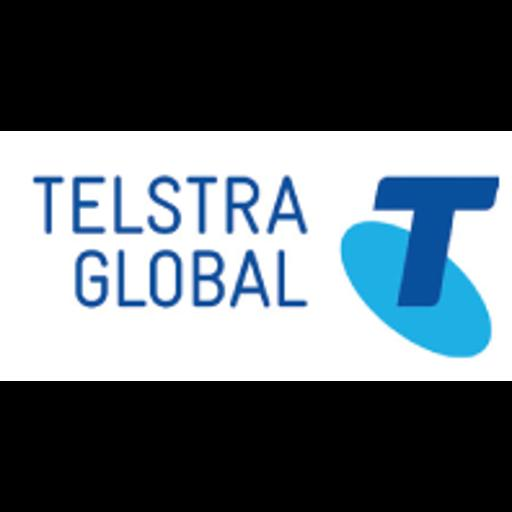Telstra Corporation Limited: (0, 131, 512, 381)
